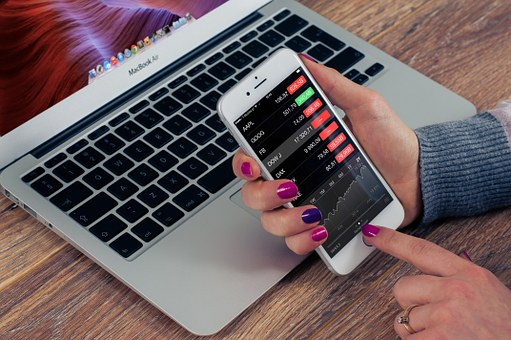mobile: (205, 47, 412, 273)
